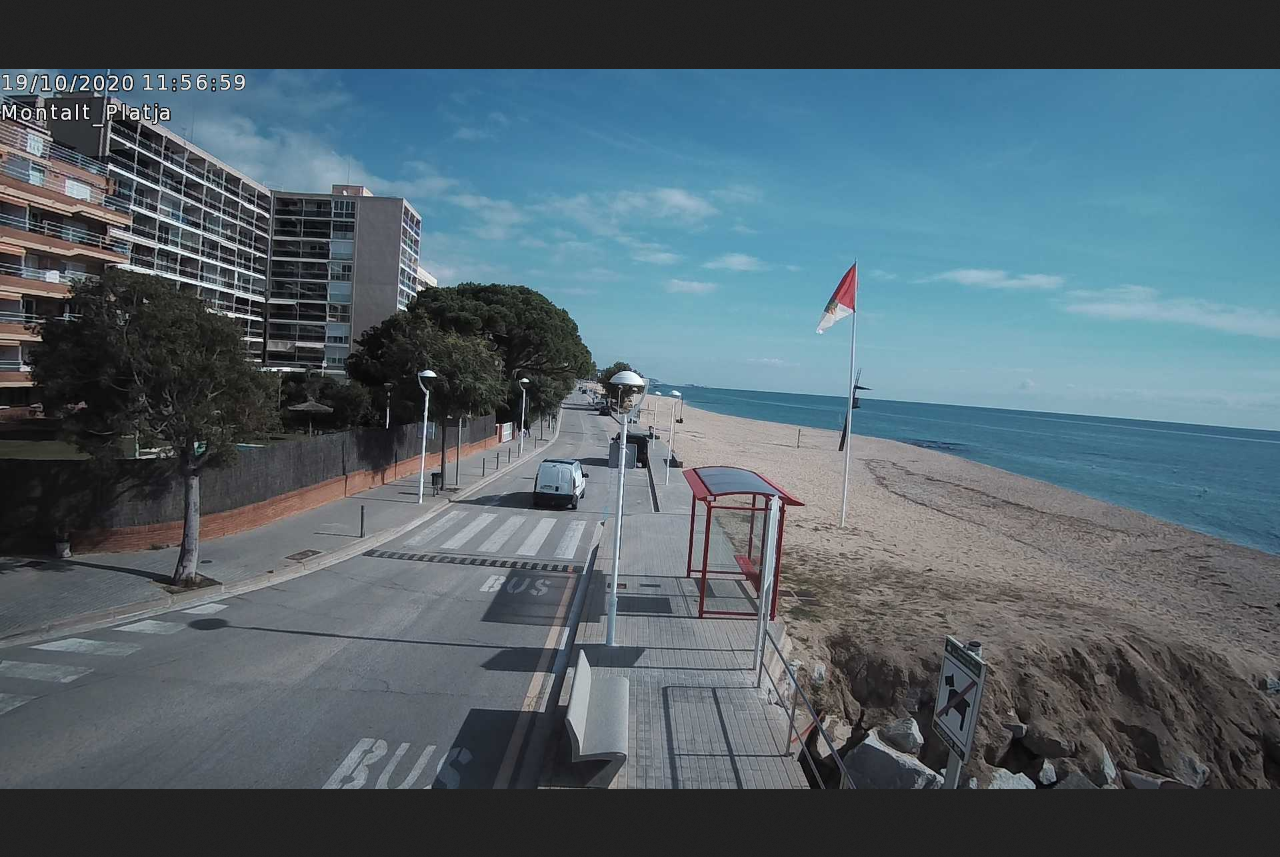maybe: (812, 254, 859, 340)
